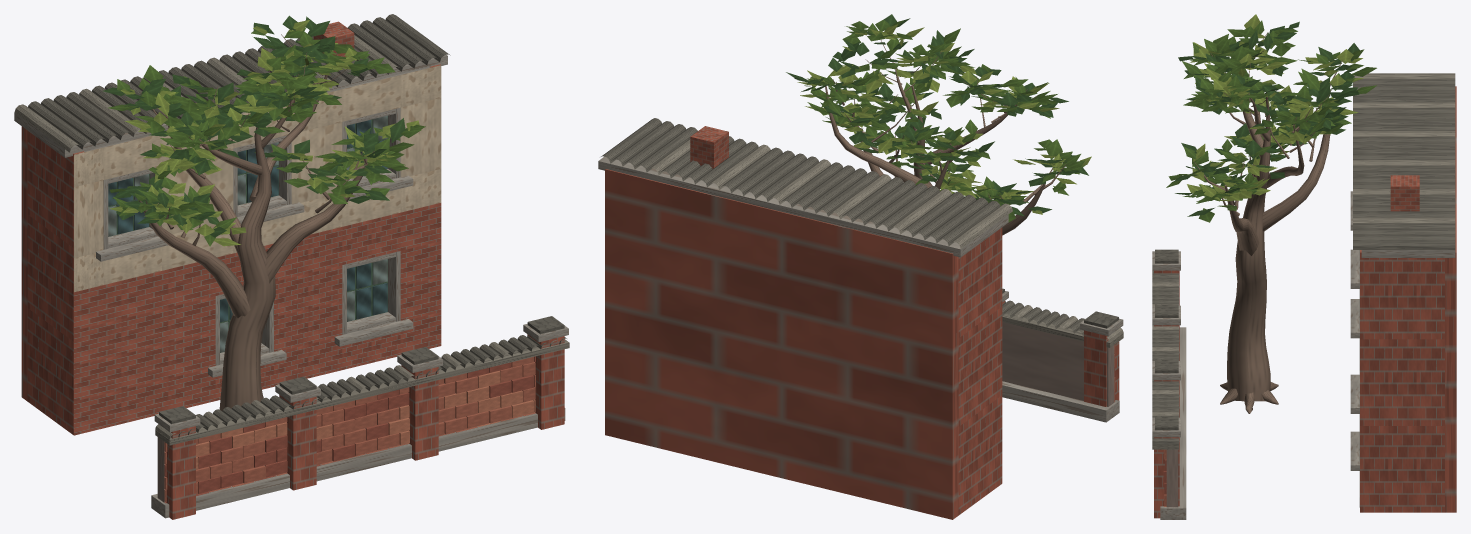
File: scene-courtyard.glb
The picture shows the model from 3 angles, left to right: view 1: azimuth 30°, elevation 25°; view 2: azimuth 150°, elevation 25°; view 3: azimuth 270°, elevation 25°; orthographic projection. The views are drawn at different scales.
Parts seen in each view (by area): view 1: scene-courtyard; view 2: scene-courtyard; view 3: scene-courtyard.
Boxes of the visible parts, left/top/right/bottom form: scene-courtyard: left=14, top=14, right=569, bottom=519; scene-courtyard: left=598, top=14, right=1123, bottom=519; scene-courtyard: left=1152, top=14, right=1456, bottom=519.
Bounding box in the file's own units: 5.9 × 5.4 × 4.2.
3 materials, 3 textured.
